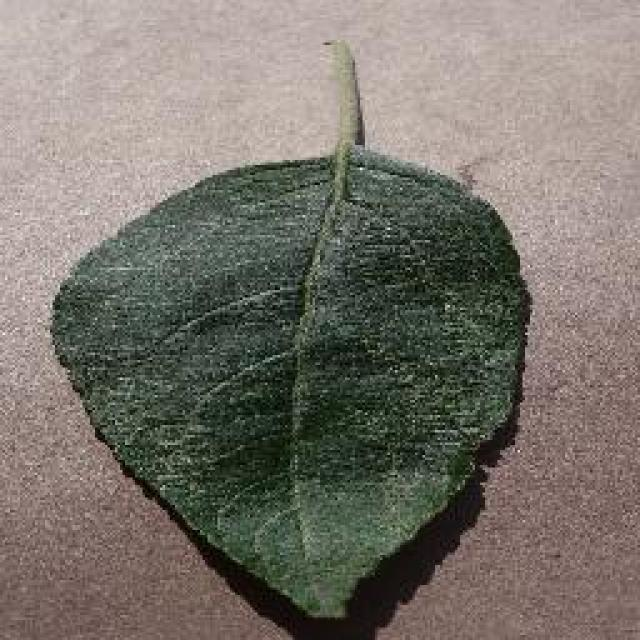apple healthy: (48, 38, 532, 620)
